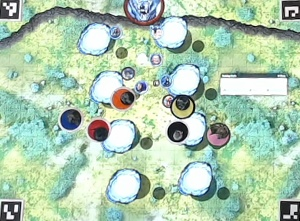black: (167, 119, 190, 142)
blue: (59, 108, 82, 131)
lime_green_violet: (169, 94, 192, 117)
orange: (111, 87, 134, 110)
pink_green: (206, 122, 229, 145)
red: (87, 119, 110, 142)
